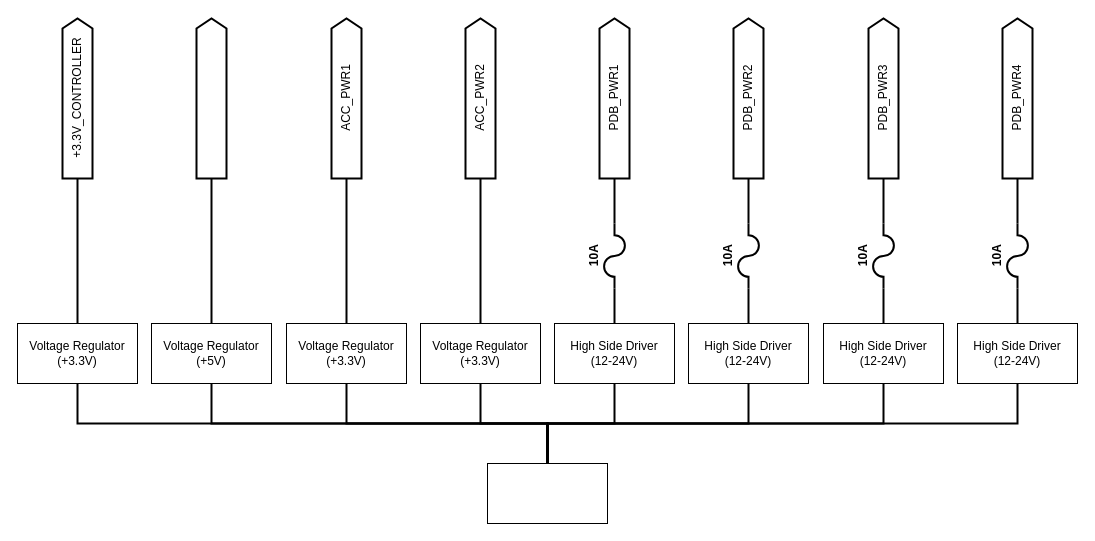
Some shapes in this 1095 by 541 pixel diagram are drawn without their labels. The shapes that lost their labels are listed below. From the top down, each one's centre as x and y in pixels, then its label:
At point 211,98: "+5_CONTROLLER".
At point 547,493: "Input Voltage (12 - 24VDC)".
